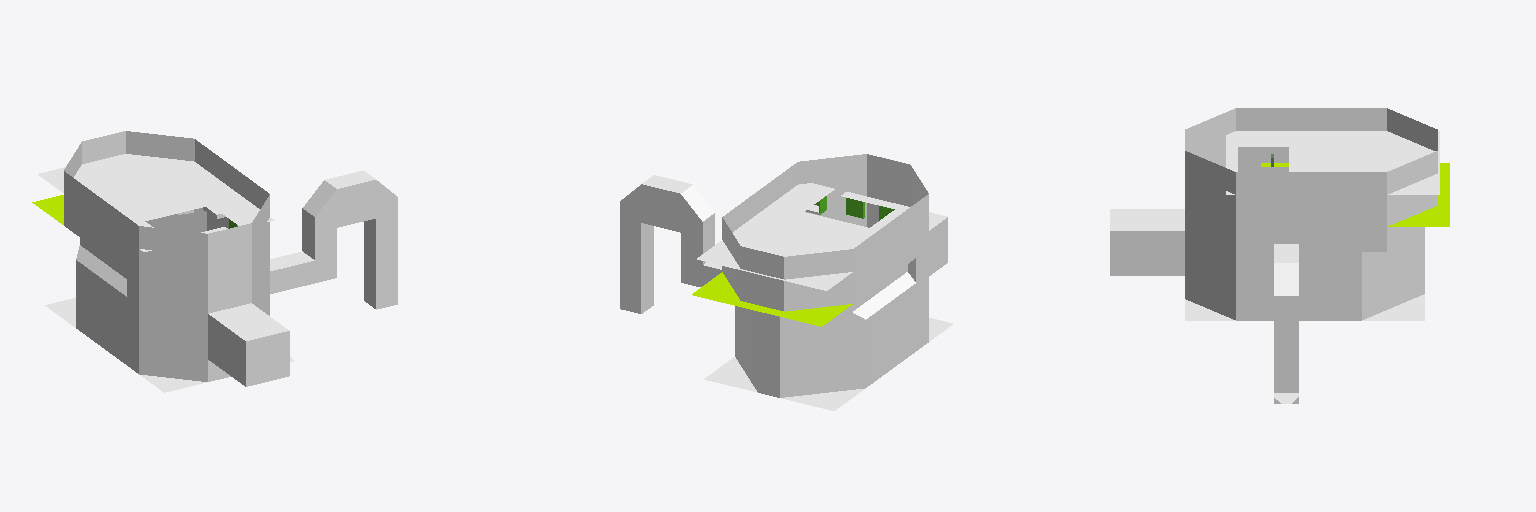
Rendered from Dire Dire Docks Area 2.obj.
The picture shows the model from 3 angles: view 1: azimuth 30°, elevation 25°; view 2: azimuth 150°, elevation 25°; view 3: azimuth 270°, elevation 25°; orthographic projection.
Size of the model in its own units: 26060 by 14350 by 27652.